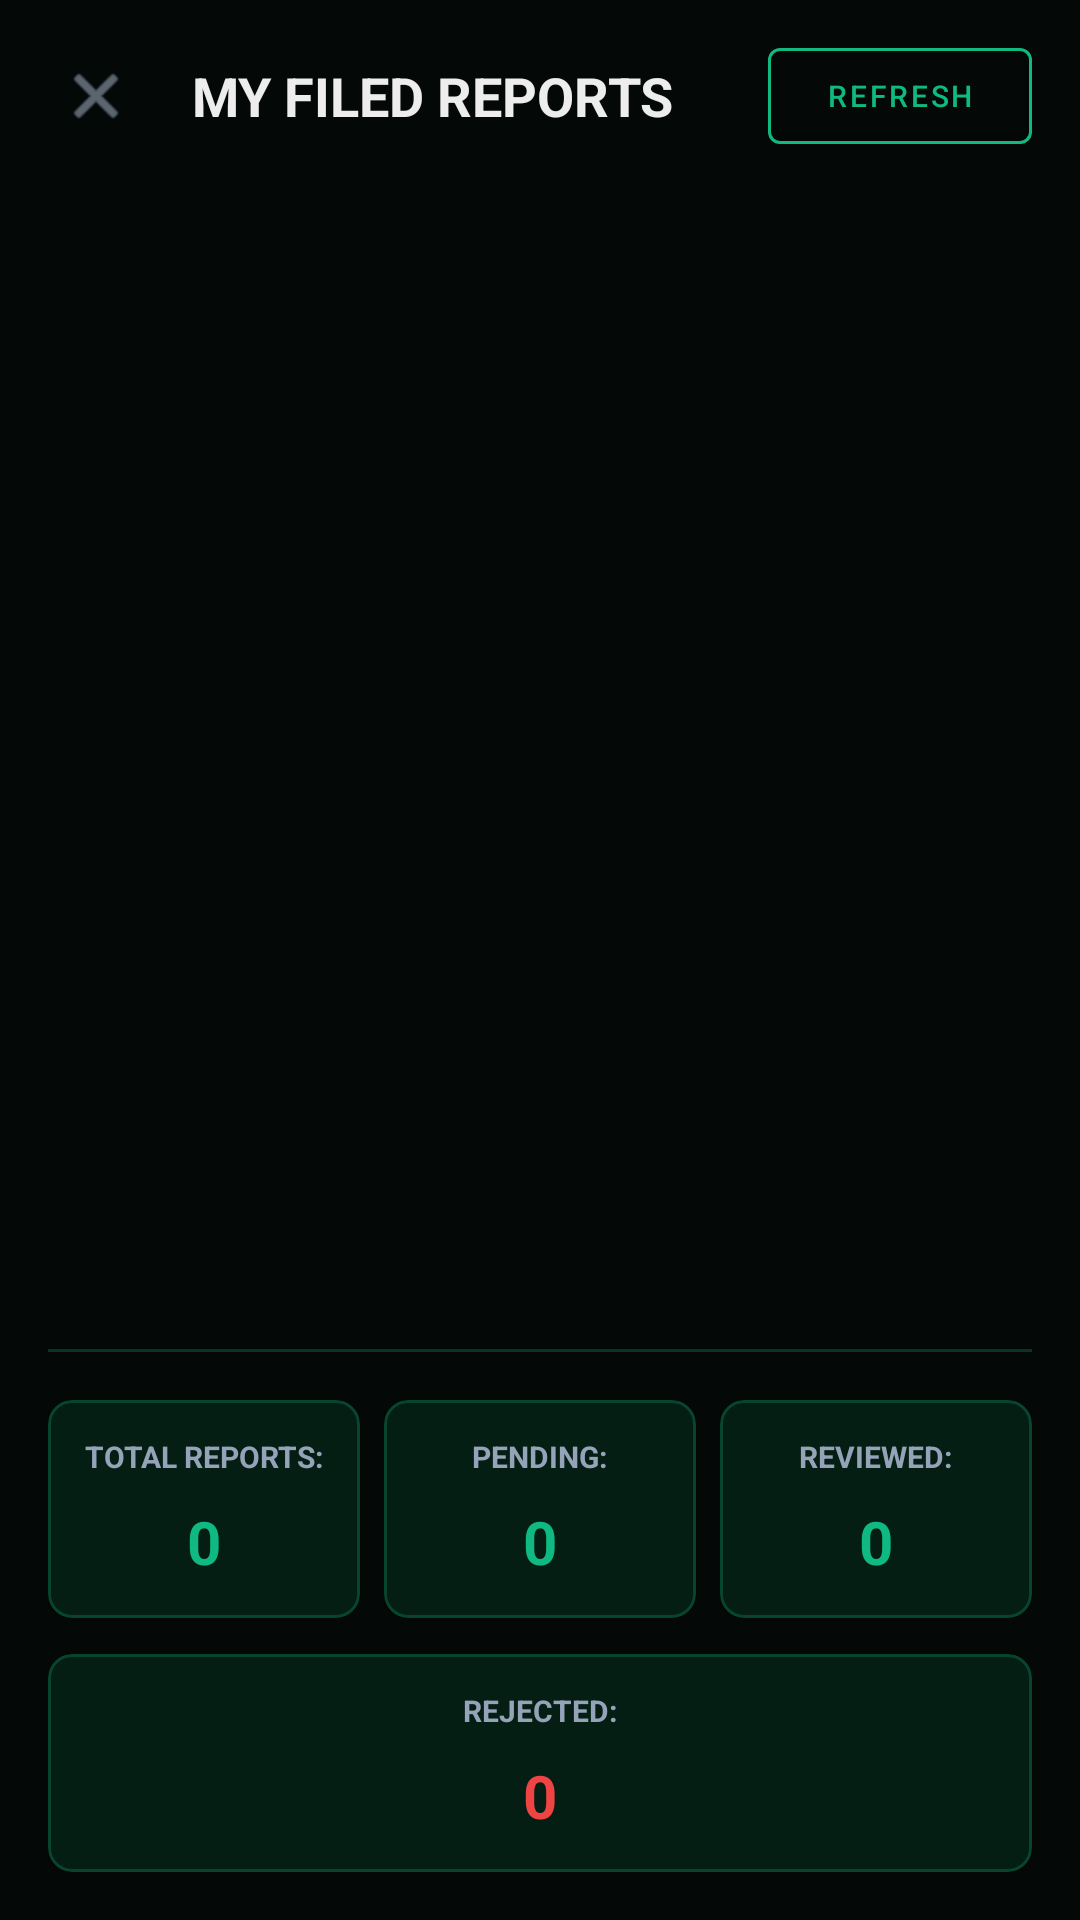

Icons on this 1080*1920 Android screen, each with the point to tap as point (x, y):
close clear cancel: point (96, 96)
